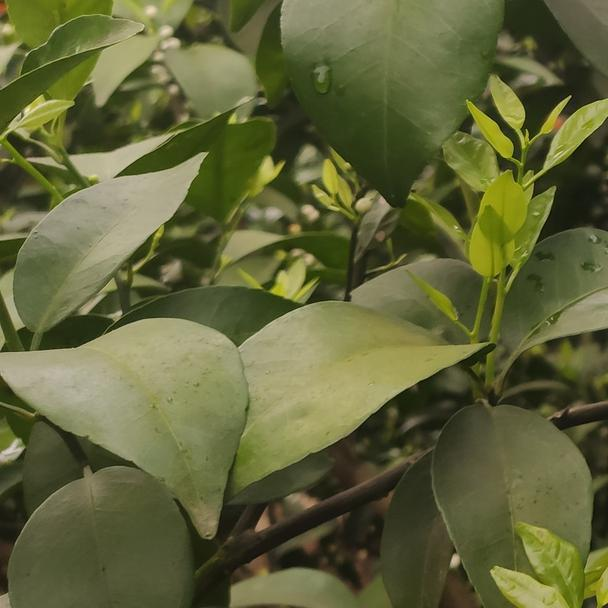shoot: (437, 76, 599, 342)
